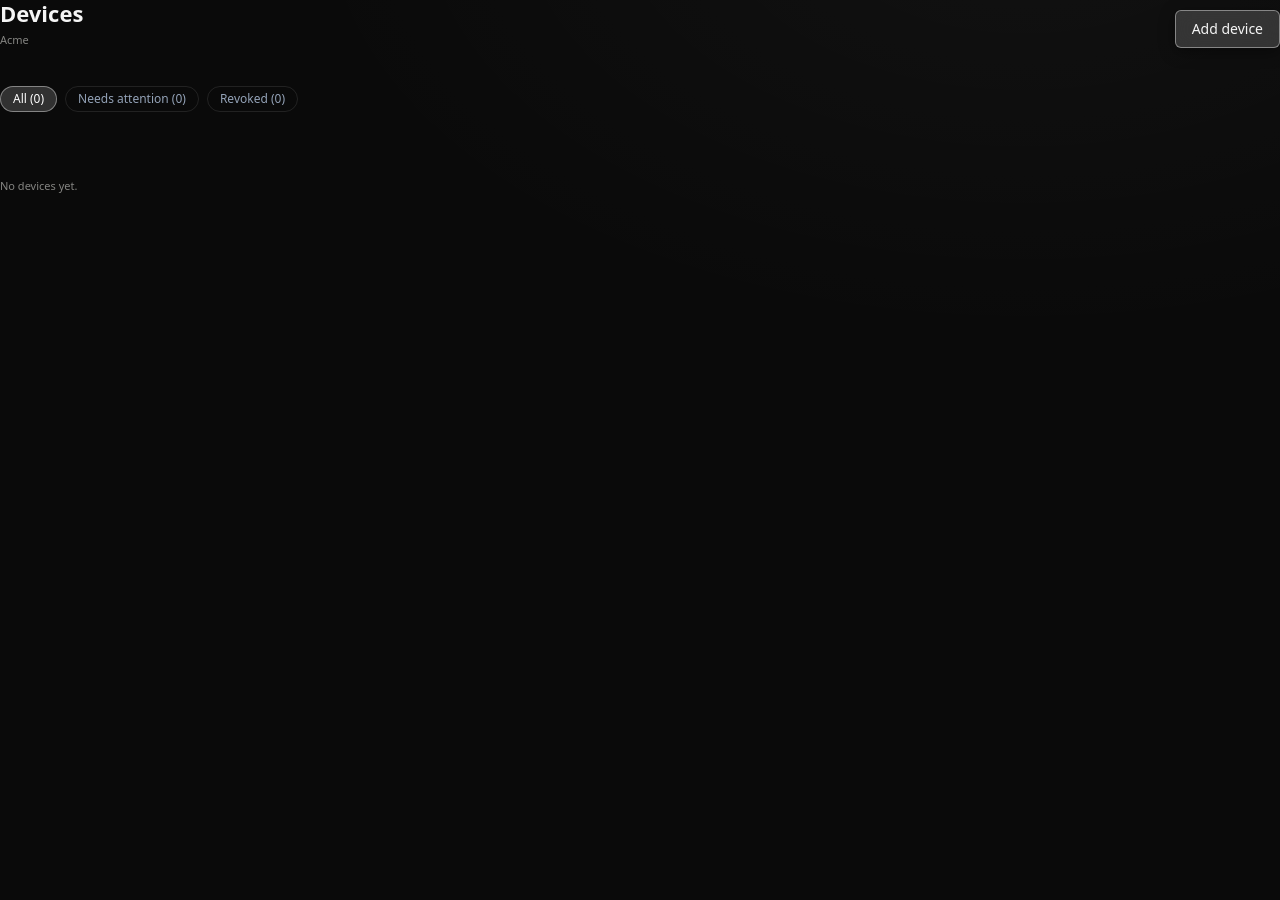
Test: Devices, a create failure is readable where it happened › ⛔ THE ERROR RENDERS INSIDE THE DIALOG, AND THE DIALOG STAYS OPEN
Click the button "Add device" at (1227, 29), box [1175,10,1279,48]
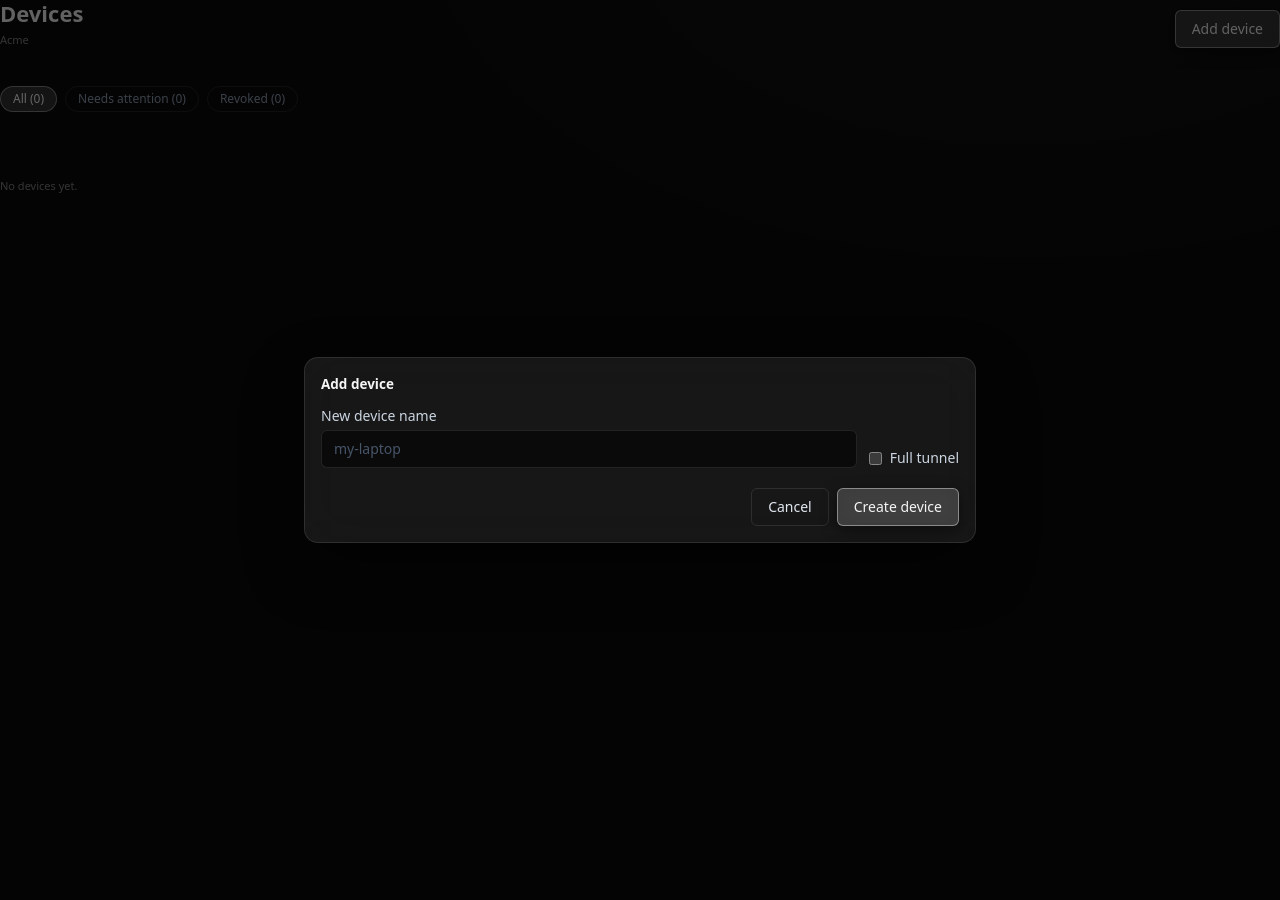
Type "x" into the field with placeholder "my-laptop" at (589, 449), box [321,430,857,468]
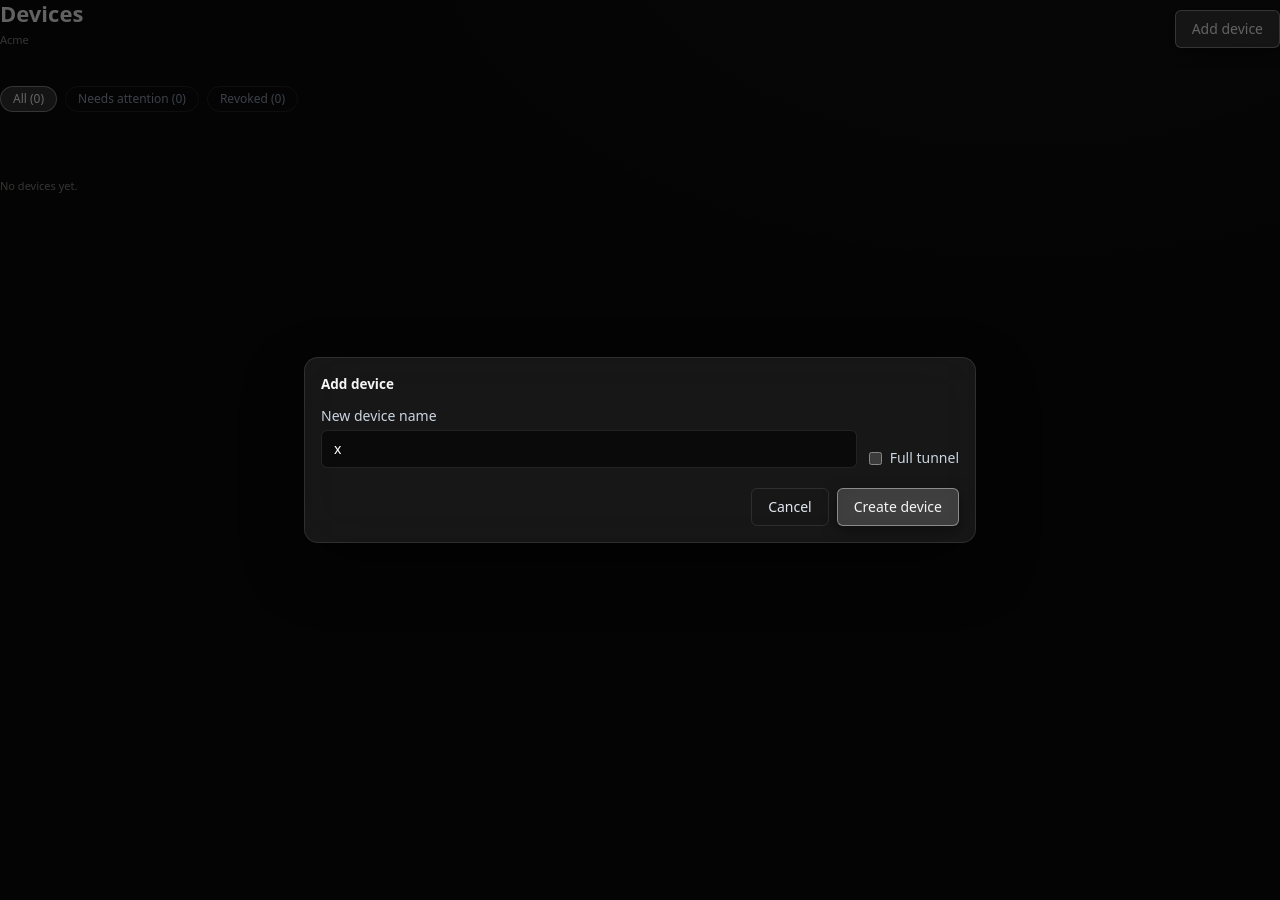
Click the button "Create device" at (898, 507), box [837,488,959,526]
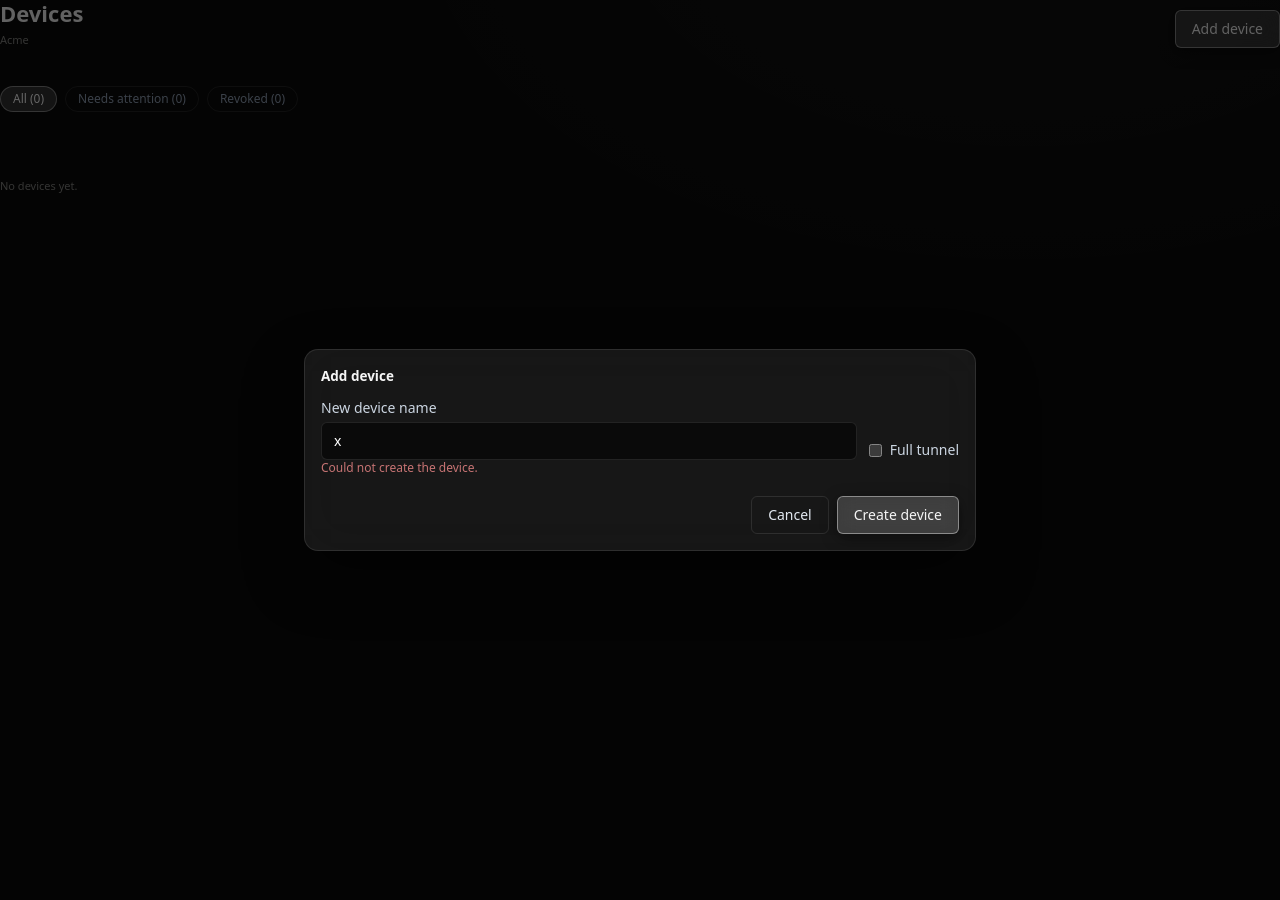
expect the text "Could not create the device." is shown: met, box [321,459,478,476]
